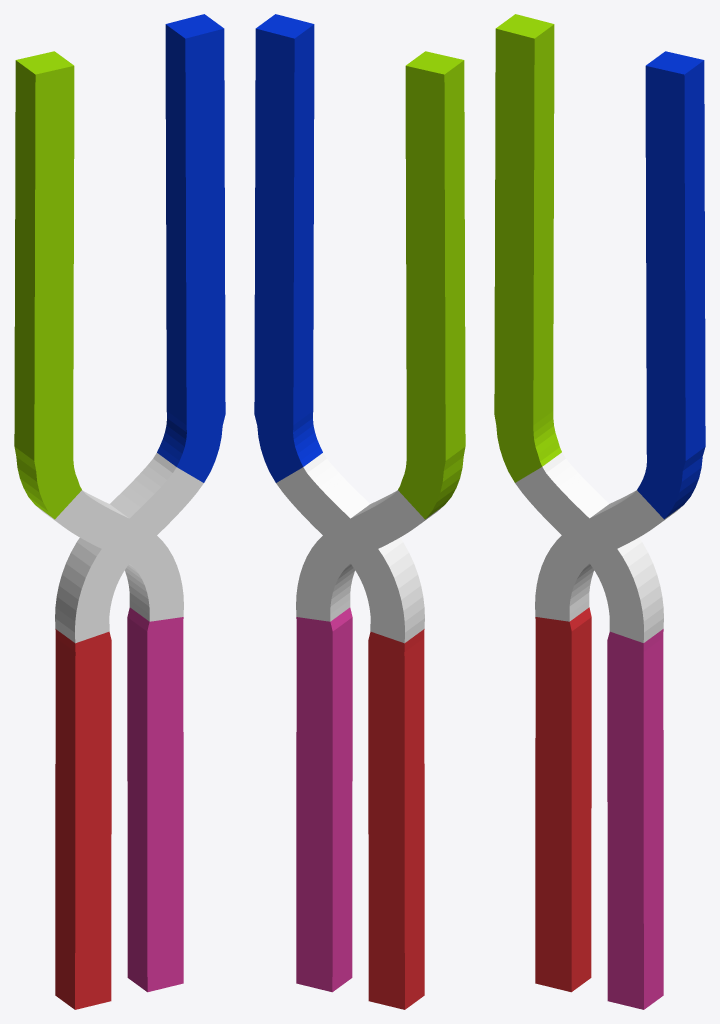
File: new Col Bridge 3.0.fbx
The picture shows the model from 3 angles, left to right: view 1: azimuth 30°, elevation 25°; view 2: azimuth 150°, elevation 25°; view 3: azimuth 330°, elevation 25°; orthographic projection.
Visible parts, largest first — view 1: Cube.004; view 2: Cube.004; view 3: Cube.004.
Boxes of the visible parts, left/top/right/bottom form: Cube.004: left=14, top=14, right=225, bottom=1009; Cube.004: left=254, top=14, right=465, bottom=1009; Cube.004: left=494, top=14, right=705, bottom=1009.
Size of the model in its own units: 628 by 2967 by 113.
